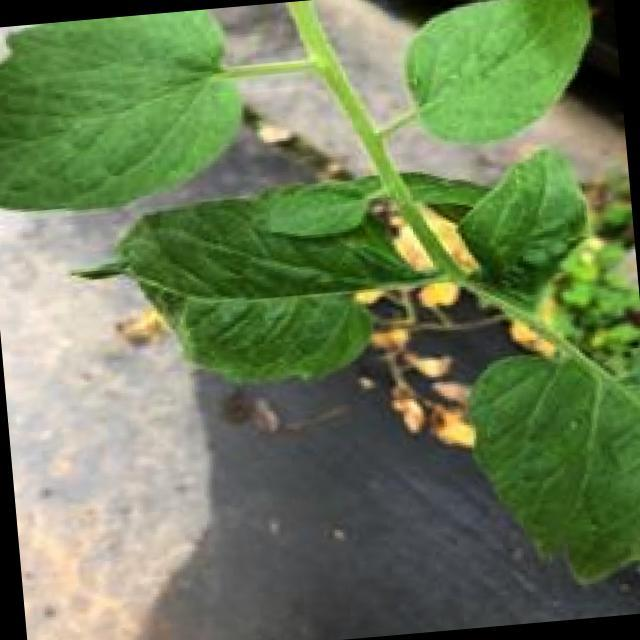Tomato healthy leaf: (105, 184, 419, 384), (0, 8, 240, 211), (464, 338, 640, 576), (401, 0, 594, 148), (457, 149, 588, 317)
